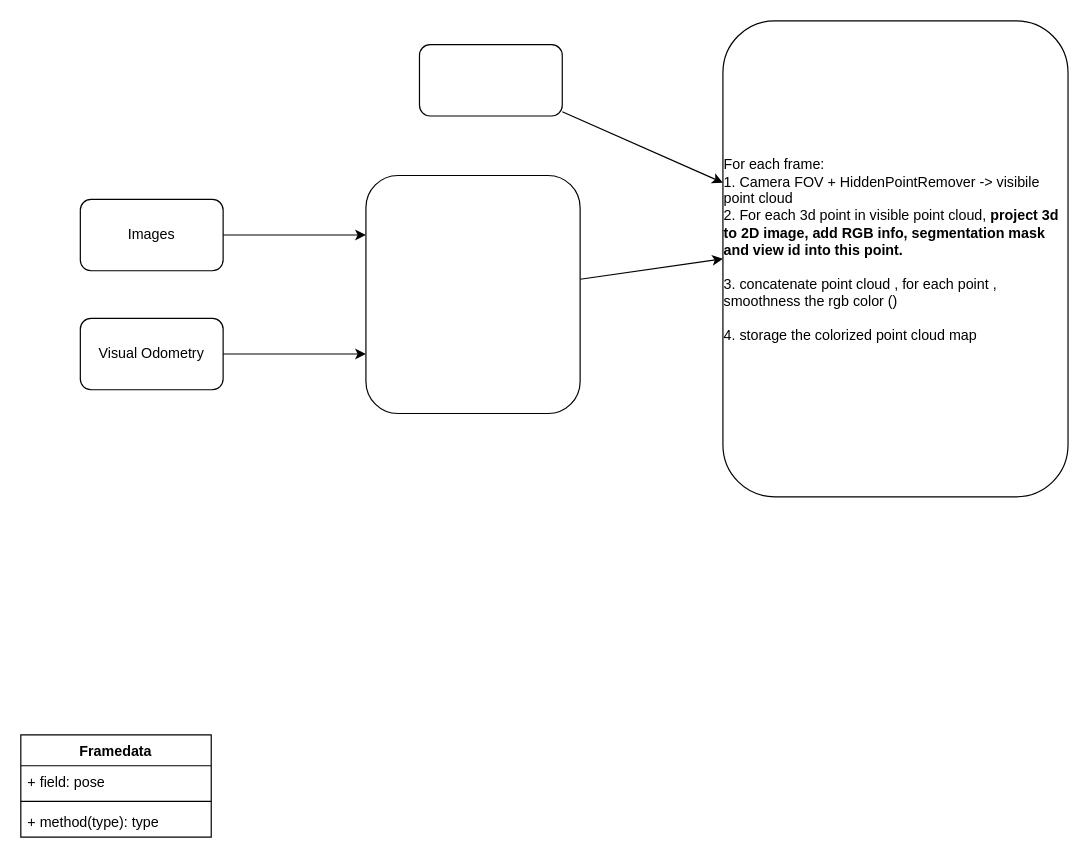
This 1089x862 diagram has some shape labels left out. The centre of each missing label's shape, as x and y in pixels:
"Framedata Pose pose std::string imagePath double imageTimeStamp" belongs at (472,294).
"Point Cloud Map" belongs at (490,79).
